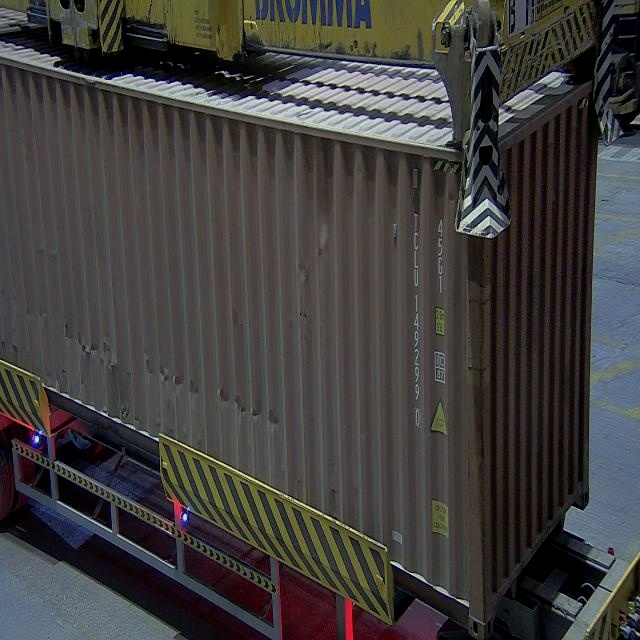Dent: (290, 148, 348, 276), (214, 371, 283, 444), (54, 303, 122, 376), (144, 333, 202, 411)
